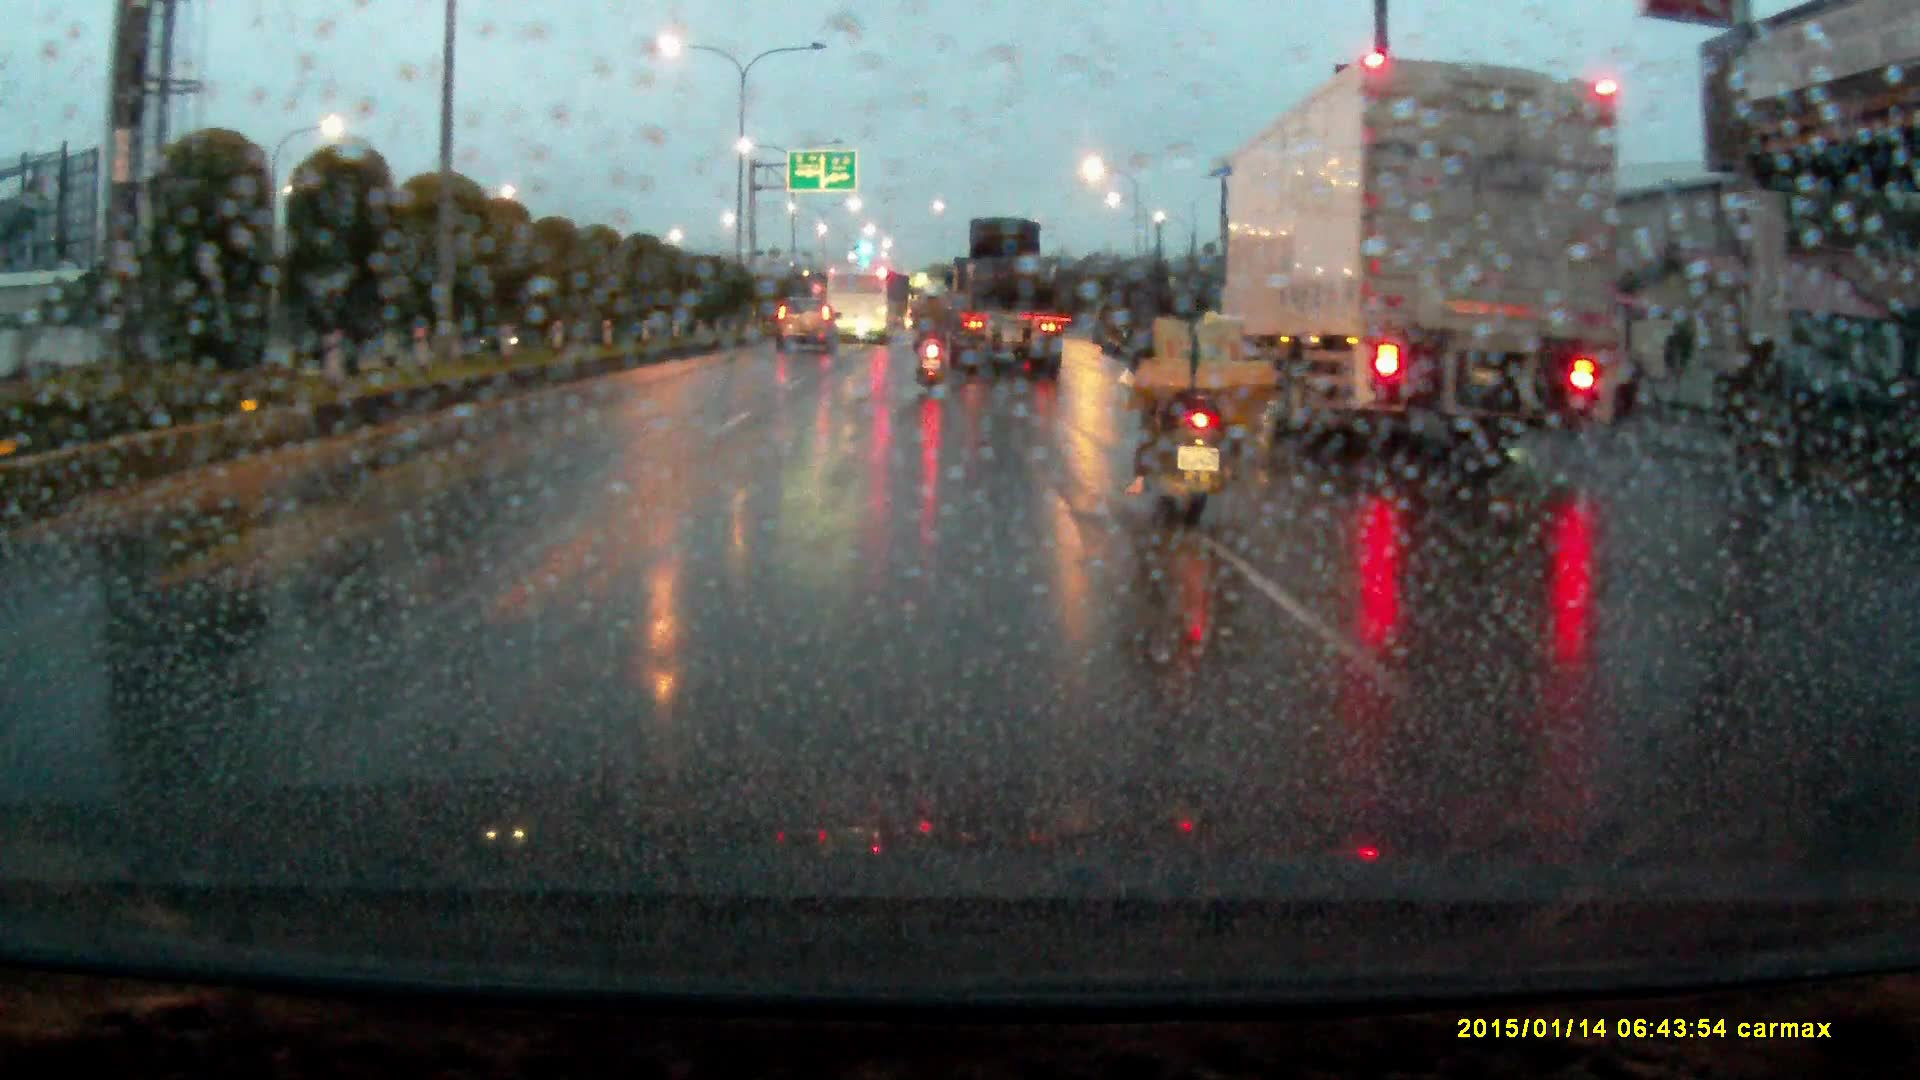rider: (1126, 253, 1274, 538), (913, 288, 954, 389)
vehicle: (1216, 51, 1625, 452), (937, 219, 1064, 377), (828, 264, 892, 341), (774, 294, 842, 354)
